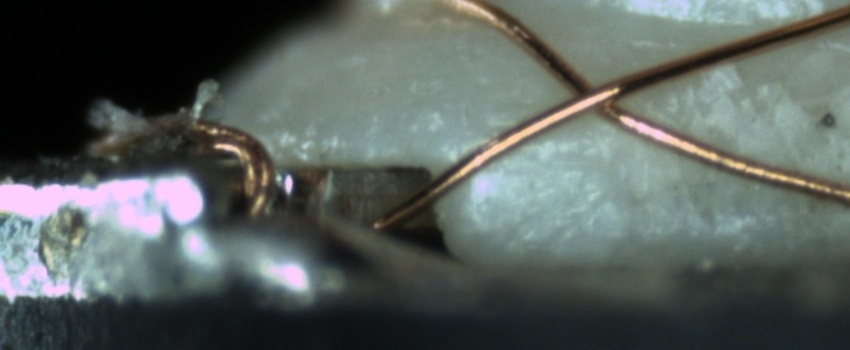CL: (547, 62, 648, 129)
DL: (470, 121, 602, 172)
TE: (91, 112, 284, 222)
